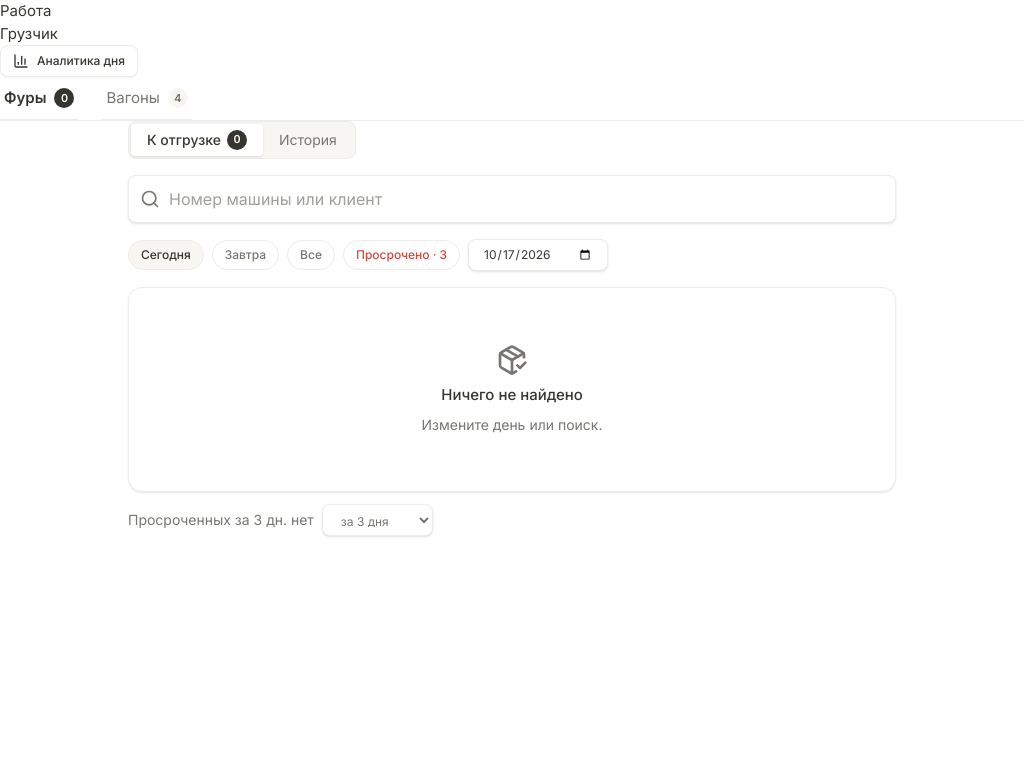
LoaderPage › «Аналитика дня» открывает сводку открытой вкладки за сегодня
The width and height of the screenshot is (1024, 768).
Click the button "Аналитика дня" at (69, 61), box x1=0 y1=45 x2=138 y2=77
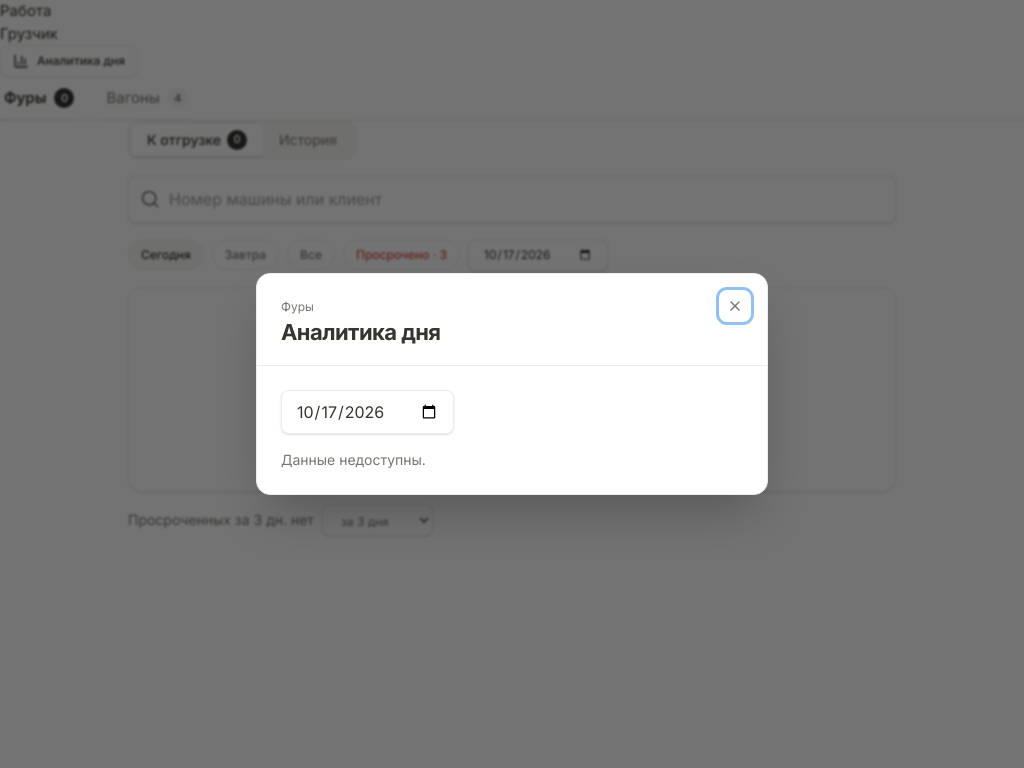
Result: the dialog "Аналитика дня" is shown at x1=256 y1=273 x2=768 y2=495
